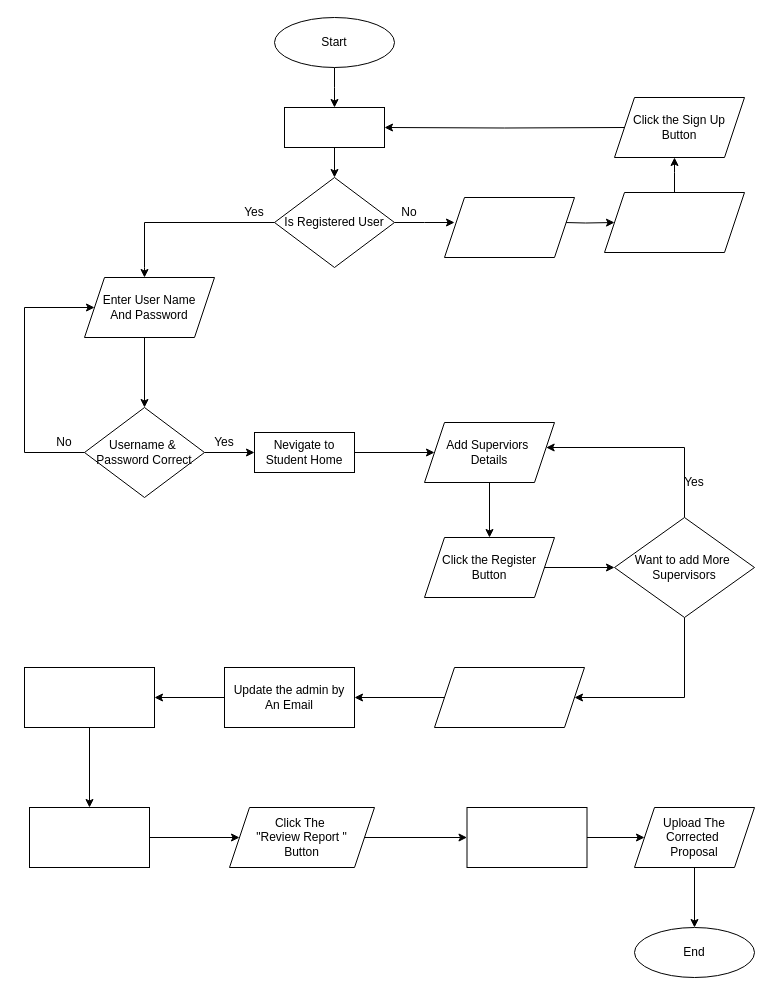
This 772x995 diagram has some shape labels left out. The box of each missing label's shape, as (x1, y1, x2, y2) in pixels:
Click The Register Botton: (444, 196, 574, 258)
Download The Review Report and Open: (466, 806, 587, 868)
Fill the Registration Form: (604, 192, 744, 252)
Login Page: (284, 106, 384, 148)
Receiving an Email That the proposal has been sent to the reviewers: (24, 666, 154, 728)
Receiving an Email That the Review report has been Receved: (28, 806, 150, 868)
Upload the Proposal: (434, 666, 584, 728)
